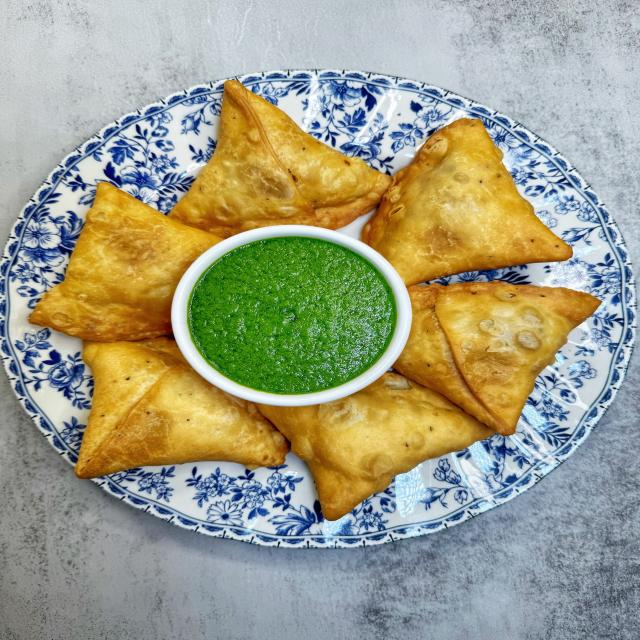SAMOSA: (361, 119, 572, 286), (169, 80, 392, 238), (258, 372, 493, 521), (394, 280, 600, 435), (29, 182, 222, 342), (76, 337, 289, 478)
